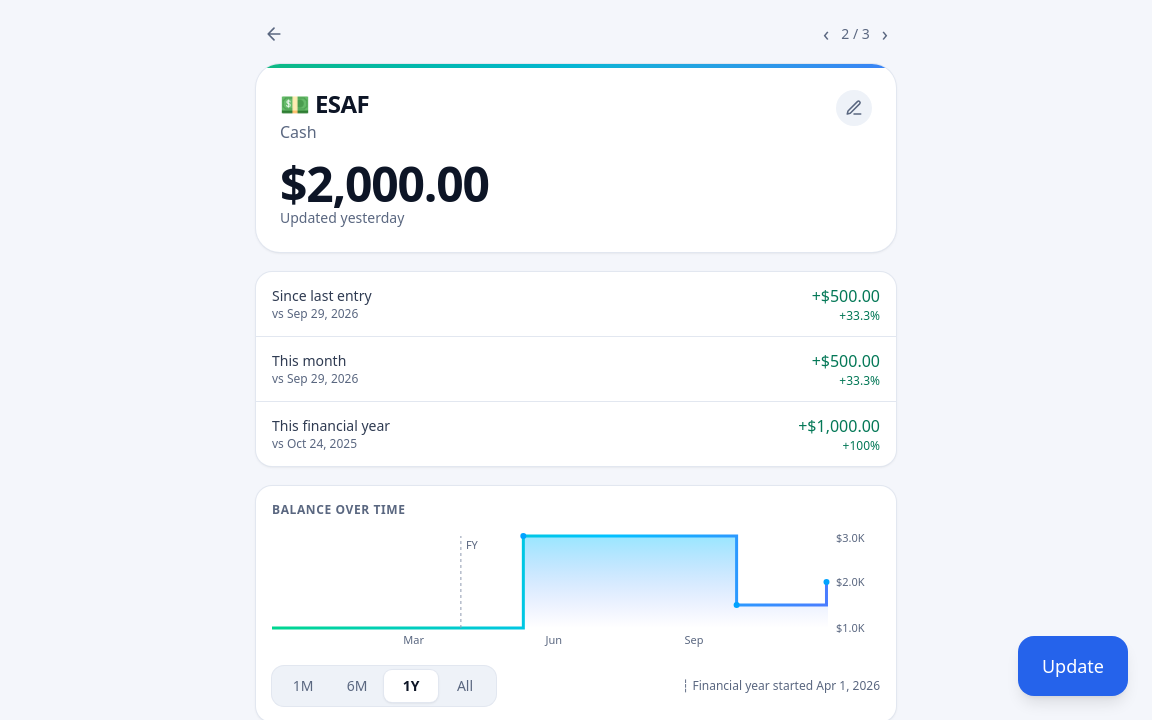
Scenario: AccountDetailsPage › has a visible edit button on every editable field, and tapping the title also edits
The width and height of the screenshot is (1152, 720).
expect the icon in the row of "💵 ESAF" is shown: met, box [845,99,863,117]
Click the heading "💵 ESAF".
click(324, 104)  # box [280,88,369,120]
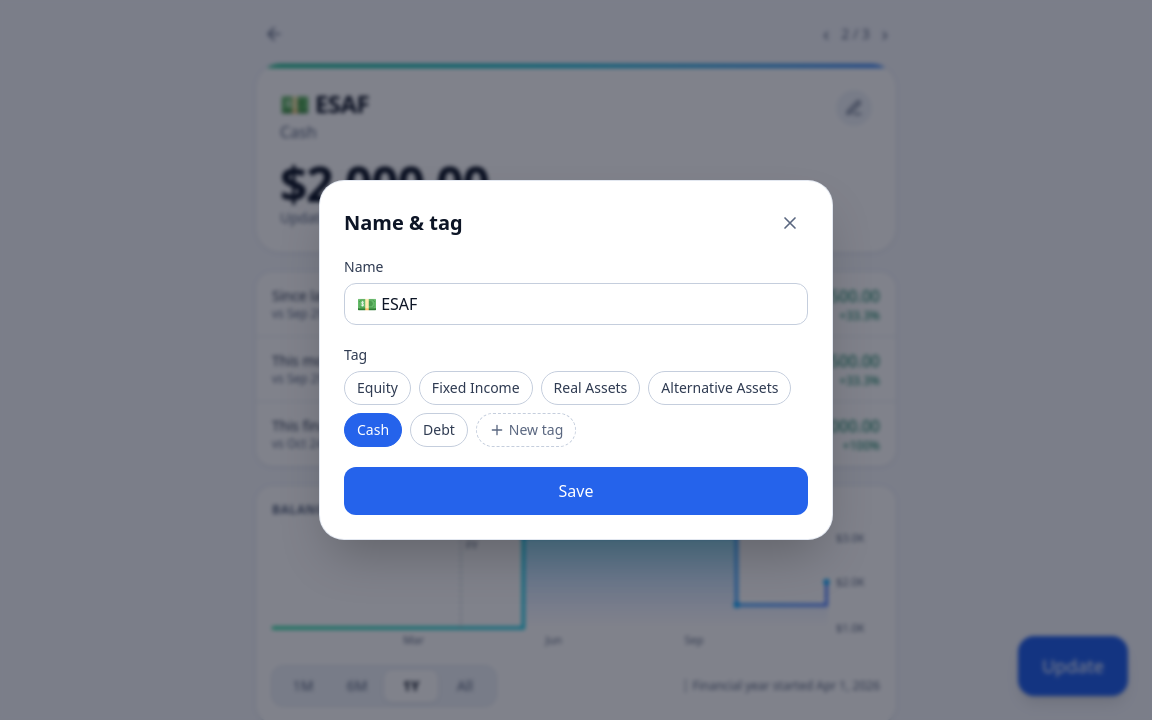
expect the dialog "Name & tag" is shown: met, box [320,181,832,539]
